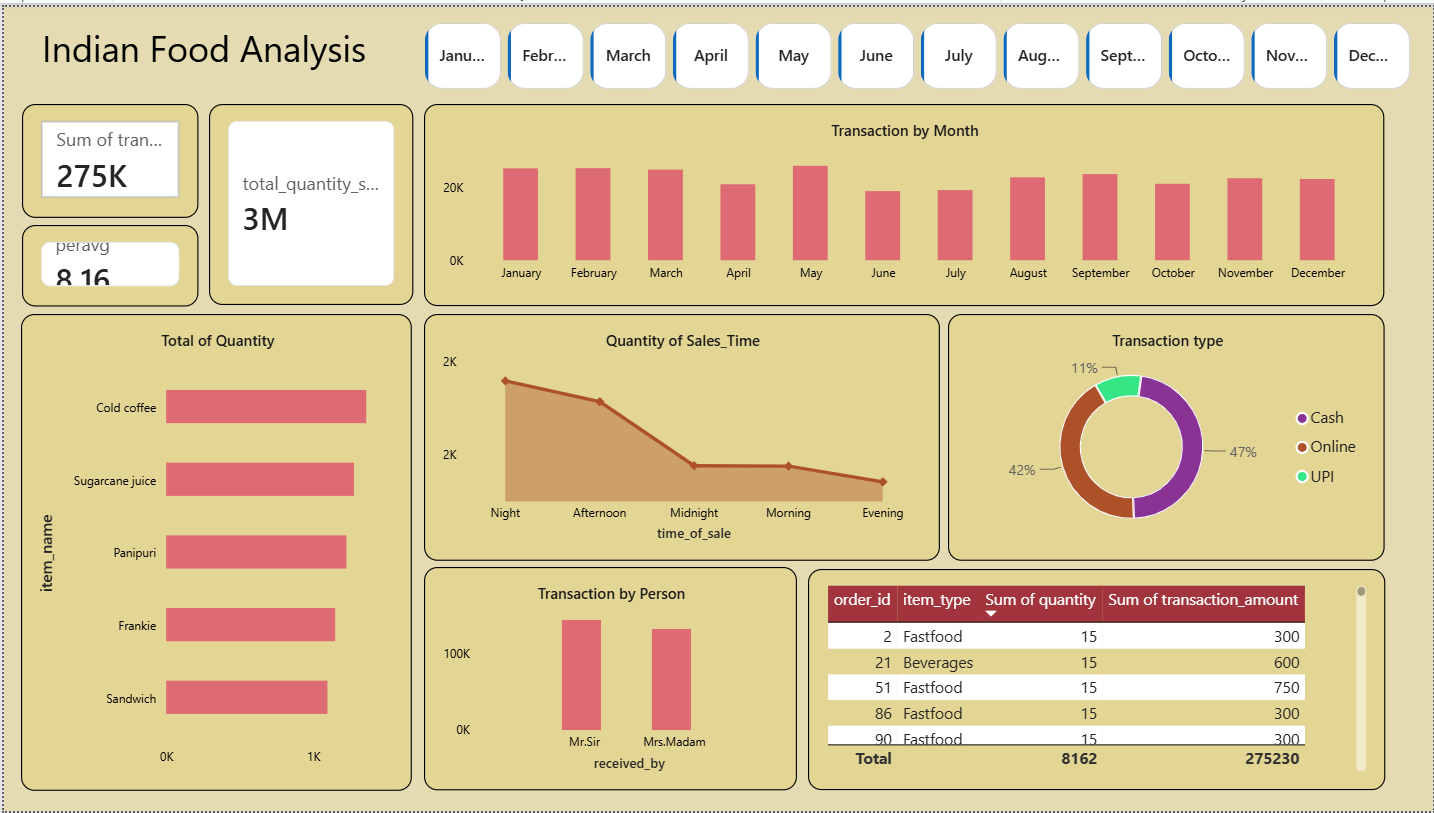

This screenshot's page, from the dashboard's own definition file:
{"tool":"powerbi","page":{"name":"Page 1","canvas":[1280,720],"ordinal":0},"visuals":[{"type":"cardVisual","fields":{"Data":["Sum(food_sales_data.transaction_amount)"]},"box":[16.1,86.7,158.2,101.8],"z":0},{"type":"cardVisual","fields":{"Data":["food_sales_data.peravg"]},"box":[16.1,195.5,158.2,72.6],"z":1000},{"type":"advancedSlicerVisual","fields":{"Values":["food_sales_data.date.Variation.Date Hierarchy.Month"]},"box":[376.9,14.1,890,59.5],"z":2000},{"type":"columnChart","title":"Transaction by Person","fields":{"Category":["food_sales_data.received_by"],"Y":["Sum(food_sales_data.transaction_amount)"]},"box":[376.5,501.7,333.9,200],"z":3000},{"type":"areaChart","title":"Quantity of Sales_Time","fields":{"Category":["food_sales_data.time_of_sale"],"Y":["Sum(food_sales_data.quantity)"]},"box":[376.5,274.8,461.7,220.9],"z":4000},{"type":"barChart","title":"Total of Quantity","fields":{"Category":["food_sales_data.item_name"],"Y":["Sum(food_sales_data.quantity)"]},"box":[15.7,274.8,350.4,427],"z":5000},{"type":"donutChart","title":"Transaction type","fields":{"Category":["food_sales_data.transaction_type"],"Y":["Sum(food_sales_data.item_price)"]},"box":[845.2,274.8,391.3,220.9],"z":6000},{"type":"tableEx","fields":{"Values":["food_sales_data.order_id","food_sales_data.item_type","Sum(food_sales_data.quantity)","Sum(food_sales_data.transaction_amount)"]},"box":[720,503.5,516.5,198.3],"z":7000},{"type":"lineClusteredColumnComboChart","title":"Transaction by Month","fields":{"Category":["food_sales_data.date.Variation.Date Hierarchy.Month"],"Y":["Sum(food_sales_data.transaction_amount)"]},"box":[376.1,86.9,859.7,180.9],"z":8000},{"type":"textbox","box":[34.3,14.1,453.5,45.4],"z":9000},{"type":"cardVisual","fields":{"Data":["food_sales_data.total_quantity_sold"]},"box":[183.4,86.7,183.4,180.4],"z":10001}]}

Visuals, with their boxes in screenshot pixels (x1, y1, x2, y2), scaled from the page's 1280x720 canvas onto the 1434x813 screenshot:
cardVisual - Sum(food_sales_data.transaction_amount): [18,98,195,213]
cardVisual - food_sales_data.peravg: [18,221,195,303]
advancedSlicerVisual - food_sales_data.date.Variation.Date Hierarchy.Month: [422,16,1419,83]
"Transaction by Person" columnChart: [422,567,796,792]
"Quantity of Sales_Time" areaChart: [422,310,939,560]
"Total of Quantity" barChart: [18,310,410,792]
"Transaction type" donutChart: [947,310,1385,560]
tableEx - food_sales_data.order_id x food_sales_data.item_type: [807,569,1385,792]
"Transaction by Month" lineClusteredColumnComboChart: [421,98,1384,302]
textbox: [38,16,546,67]
cardVisual - food_sales_data.total_quantity_sold: [205,98,411,302]
